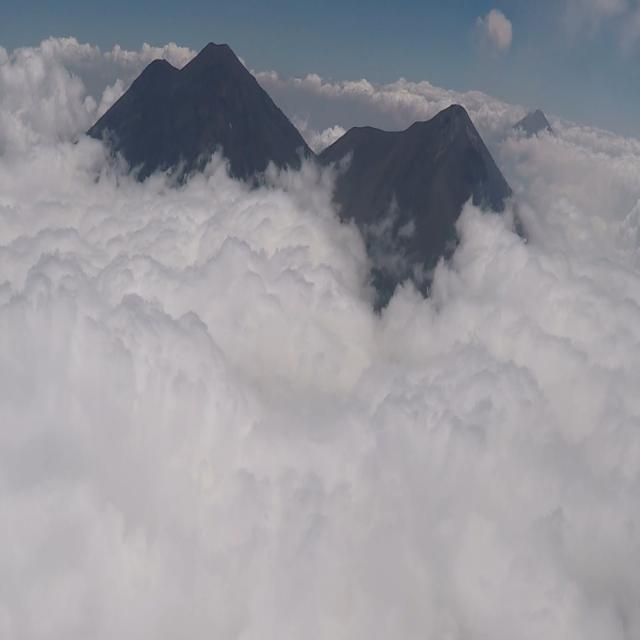Plume: (488, 10, 514, 49)
Summit: (406, 100, 491, 156)
